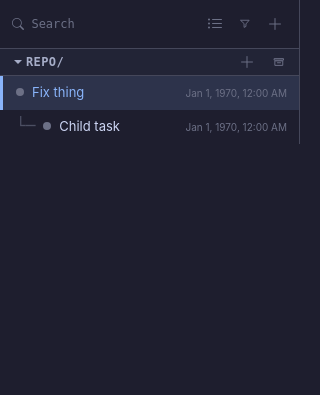
Scenario: SessionSidebar › hides child sessions from the filter popup
This screenshot has width=320, height=395.
Click the button named "Filter sessions". click: point(245, 24)
box: x1=233 y1=12 x2=257 y2=36
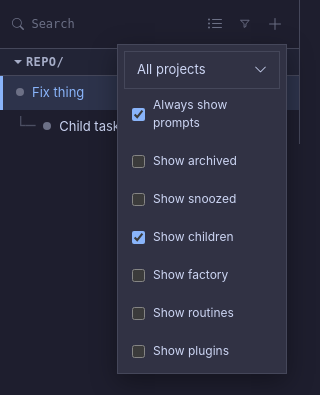
Click the checkbox labelled "Show children". click: point(138, 237)
box: x1=132 y1=230 x2=145 y2=244
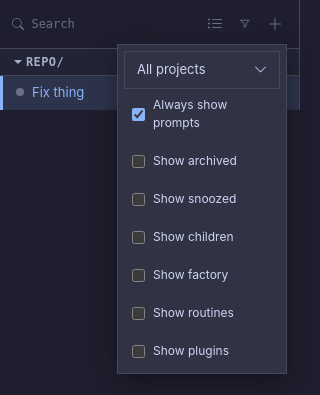
Check: the text "Fix thing" is shown, box x1=32 y1=84 x2=84 y2=100
Check: the button "Child task" is gone
